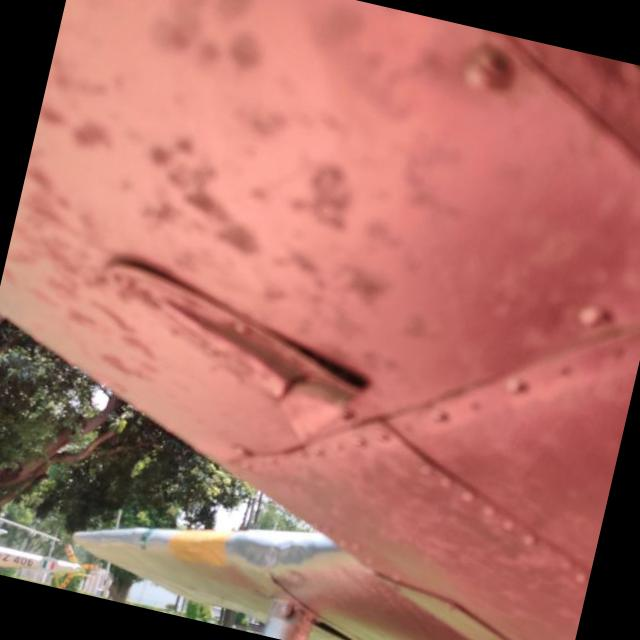Crack: (272, 369, 326, 435)
